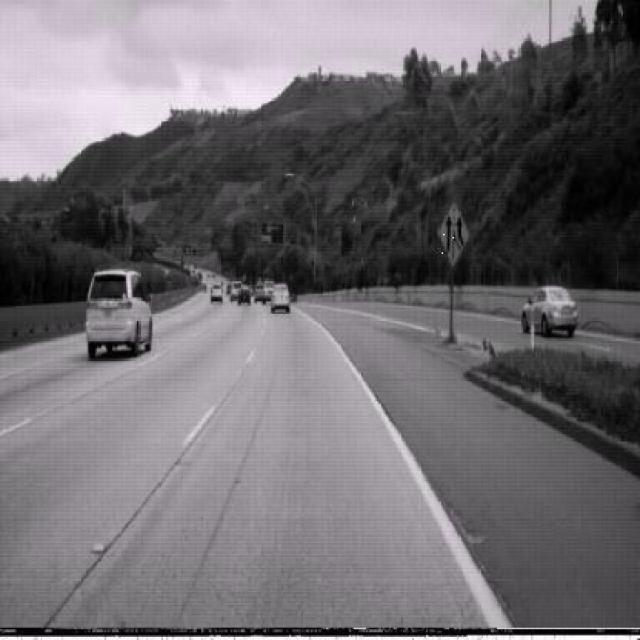addedLane: (437, 198, 471, 268)
